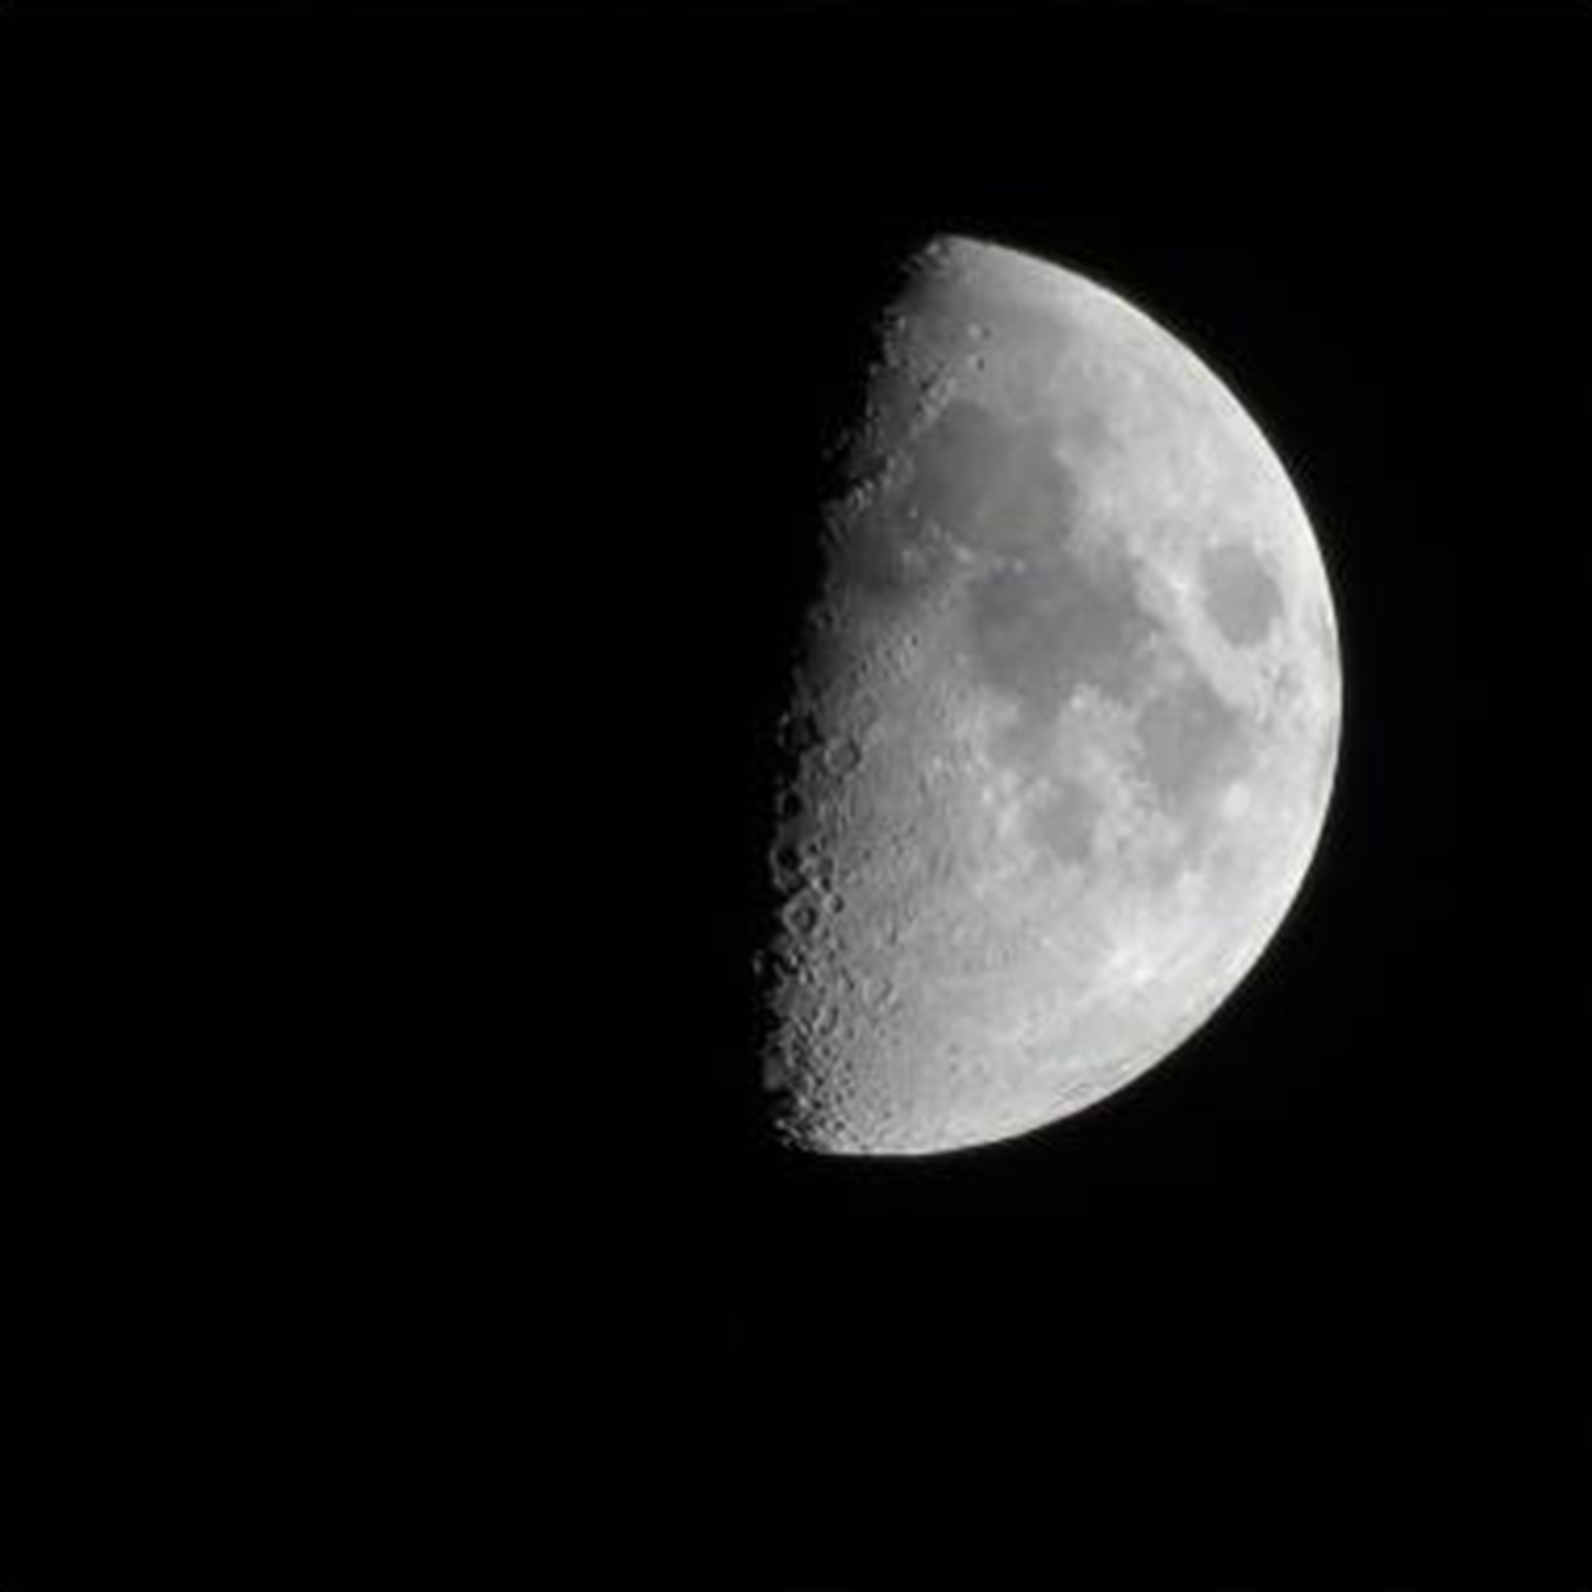crater: (1074, 918, 1179, 1010), (1206, 758, 1265, 846), (776, 707, 834, 758), (946, 315, 1018, 344), (969, 348, 1010, 386)
